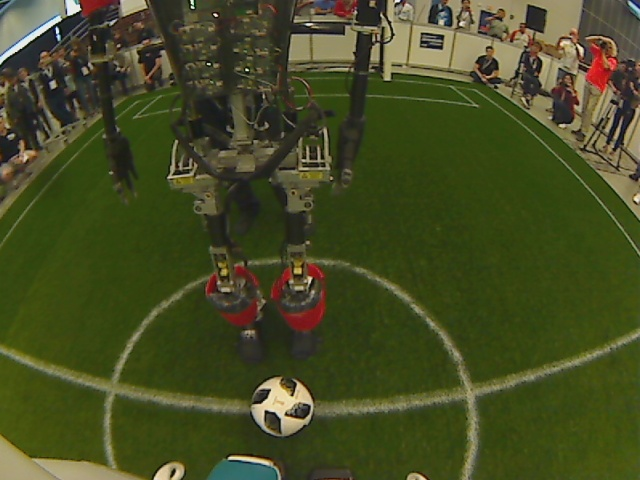ball: (247, 372, 319, 440)
goalpost: (372, 62, 401, 89)
robot: (200, 264, 334, 363)
